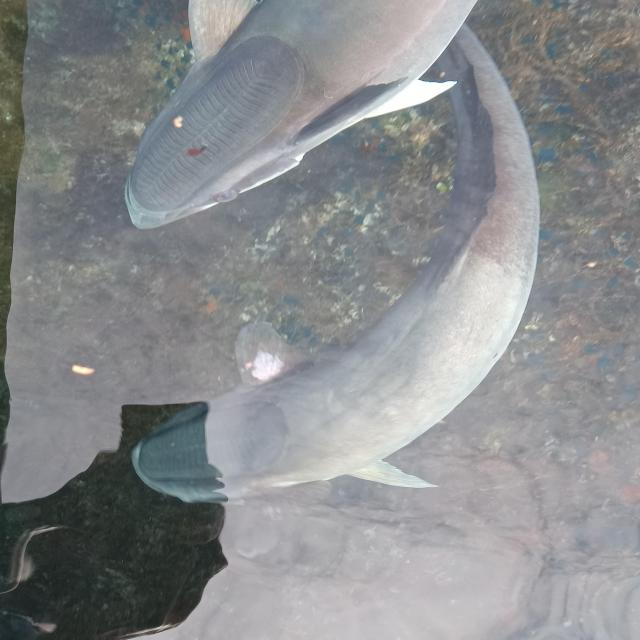ikan: (128, 19, 542, 506), (122, 0, 478, 230)
